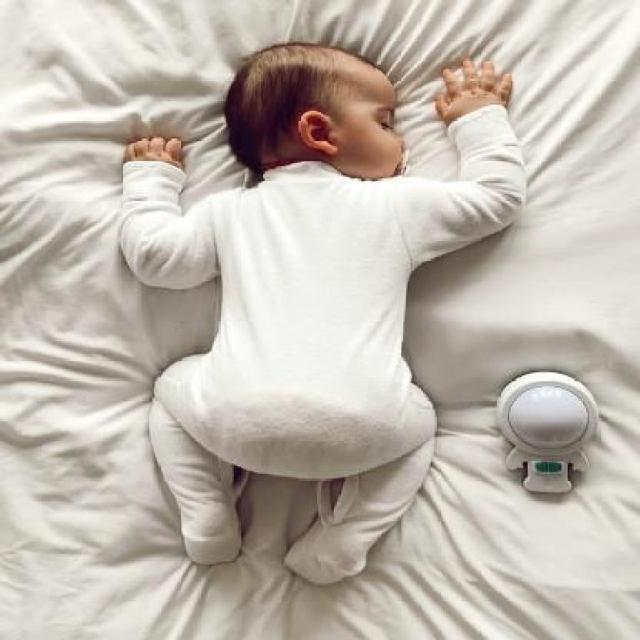baby: (117, 40, 526, 585)
